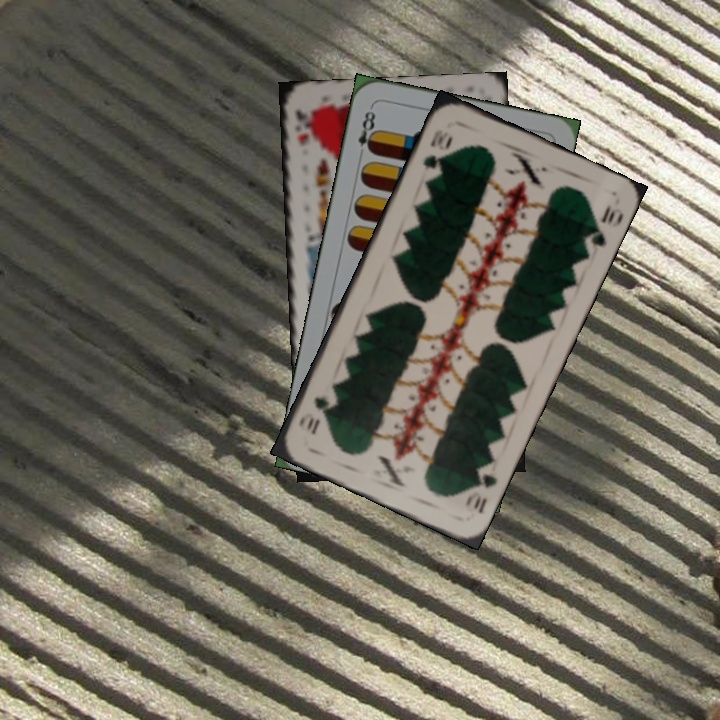E8: (354, 102, 380, 161)
G10: (461, 460, 500, 516), (419, 125, 456, 173)
HK: (291, 105, 315, 149)
